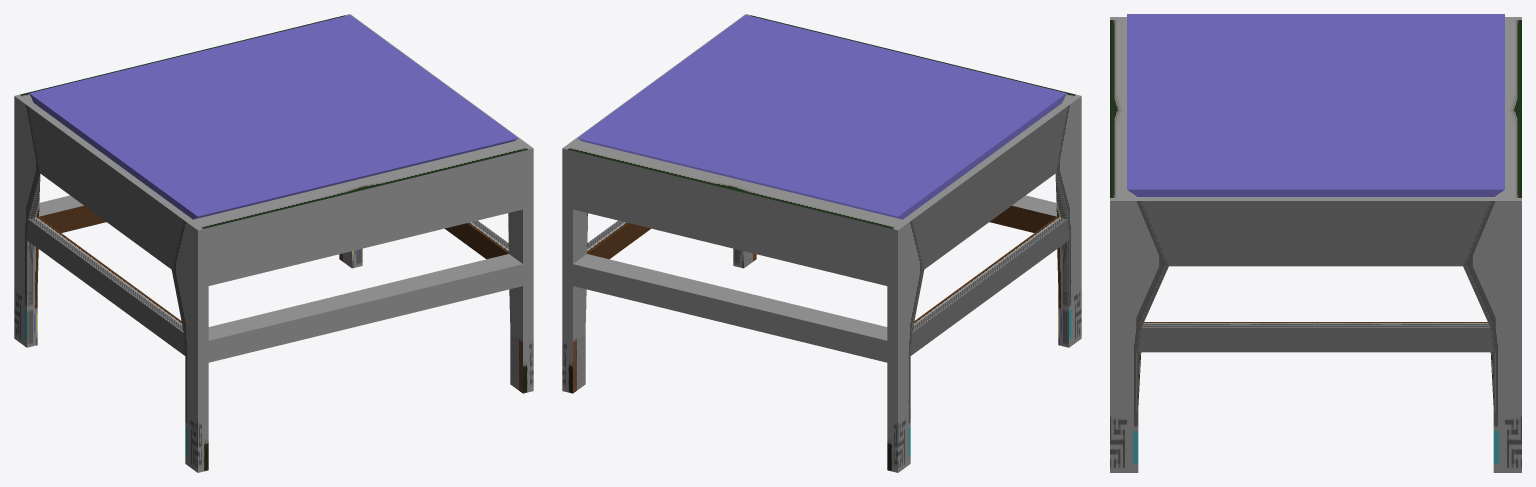
The model's file is SmallCoffeeTable.fbx.
The picture shows the model from 3 angles, left to right: view 1: azimuth 30°, elevation 25°; view 2: azimuth 150°, elevation 25°; view 3: azimuth 270°, elevation 25°; orthographic projection. The views are drawn at different scales.
Visible parts, largest first — view 1: Cube.006; view 2: Cube.006; view 3: Cube.006.
Boxes of the visible parts, bbox=[...] form: Cube.006: bbox=[14, 14, 533, 472]; Cube.006: bbox=[562, 14, 1081, 472]; Cube.006: bbox=[1110, 14, 1521, 472].
Bounding box in the file's own units: 602 × 426 × 570.
